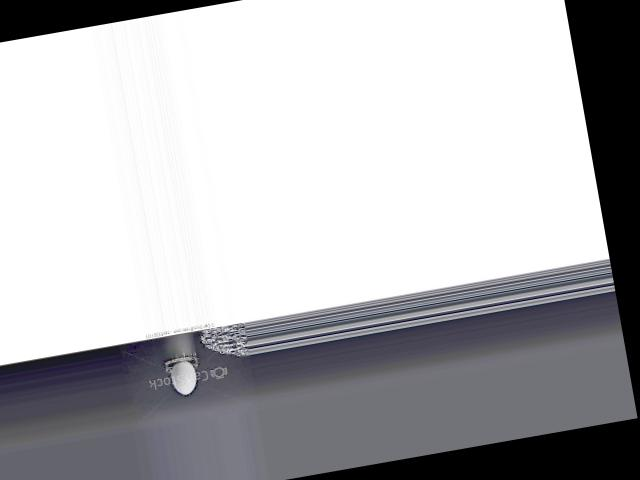egg: (168, 358, 198, 395)
